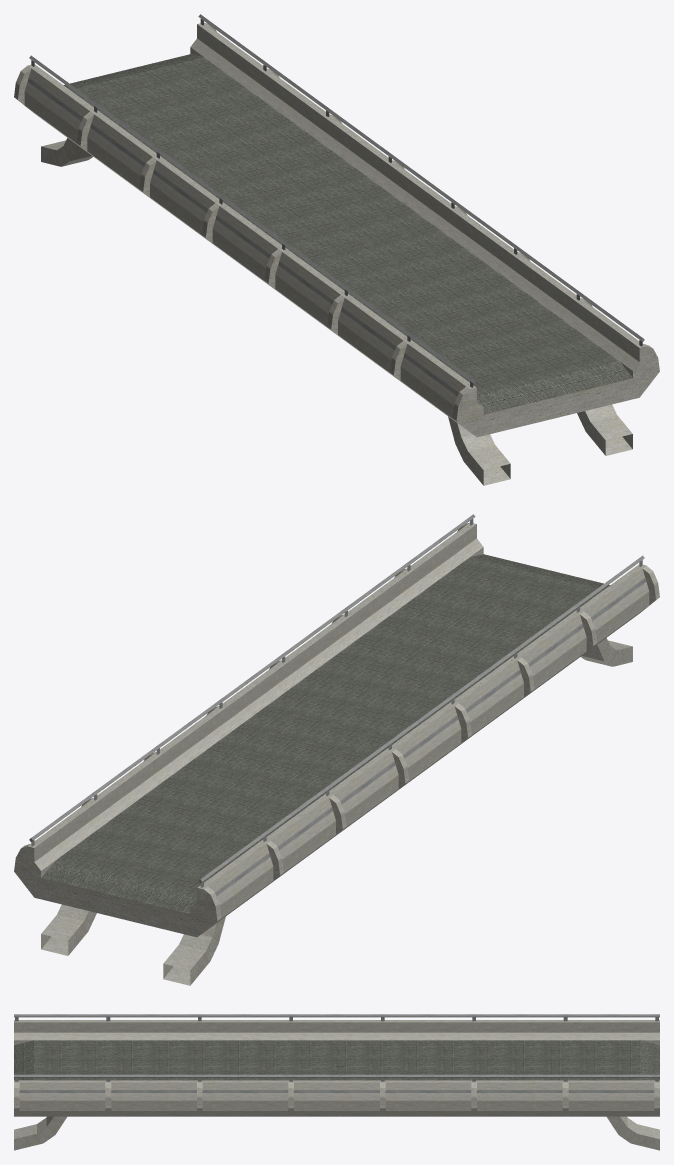
Rendered from thm_corl_imprv_bridge_lg_s02_l1.fbx.
3 renders of one model, top to bottom at view 1: azimuth 30°, elevation 25°; view 2: azimuth 150°, elevation 25°; view 3: azimuth 270°, elevation 25°, orthographic. The views are drawn at different scales.
Visible parts, largest first — view 1: mesh_node; view 2: mesh_node; view 3: mesh_node.
Part boxes in pixels (left/top/right/bottom): mesh_node: left=14, top=14, right=659, bottom=485; mesh_node: left=14, top=514, right=659, bottom=985; mesh_node: left=14, top=1014, right=659, bottom=1150.
Bounding box in the file's own units: 7.5 × 3.84 × 28.25.
